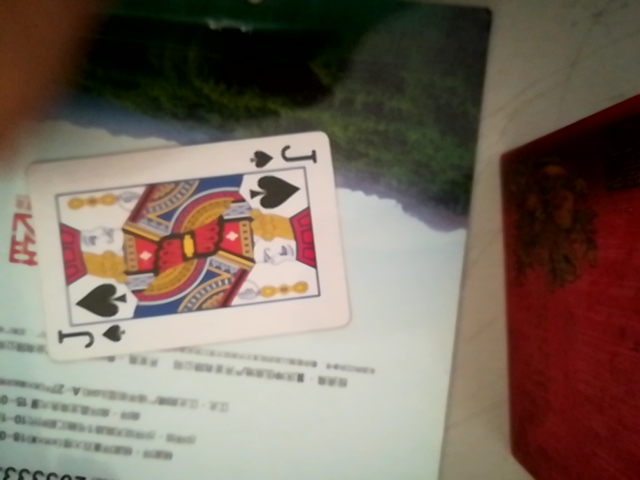ht j: (25, 127, 344, 362)
